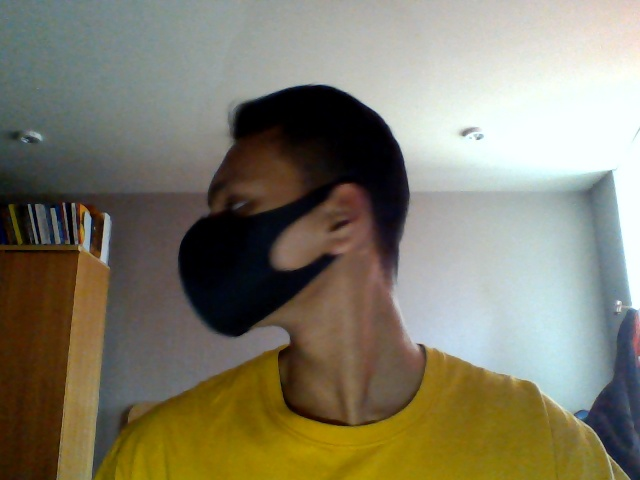mask: (173, 211, 323, 338)
